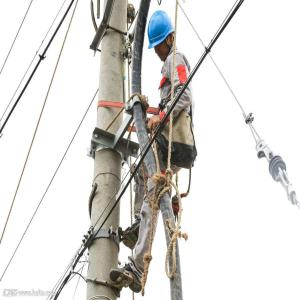blue: (147, 8, 178, 65)
